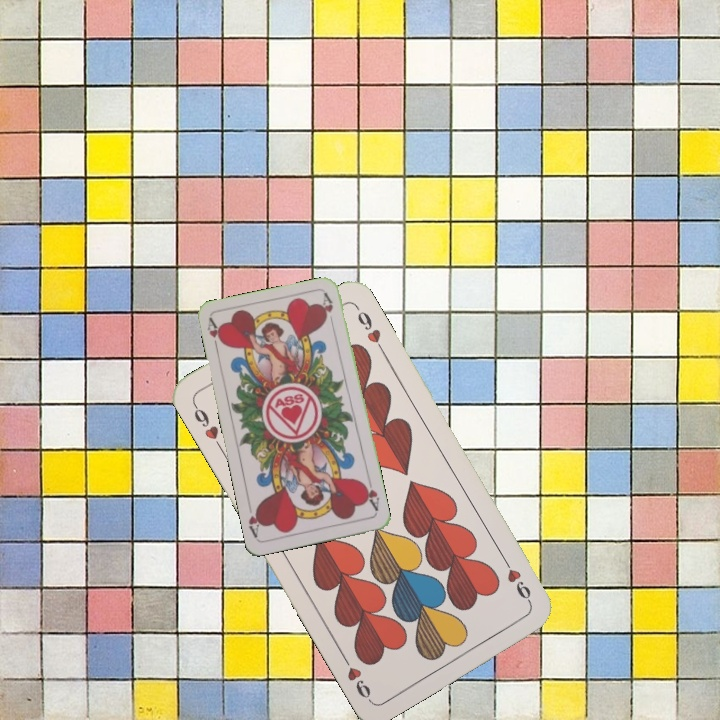H9: (498, 553, 535, 607), (189, 399, 225, 453)
HA: (203, 315, 226, 355), (359, 475, 382, 514)
